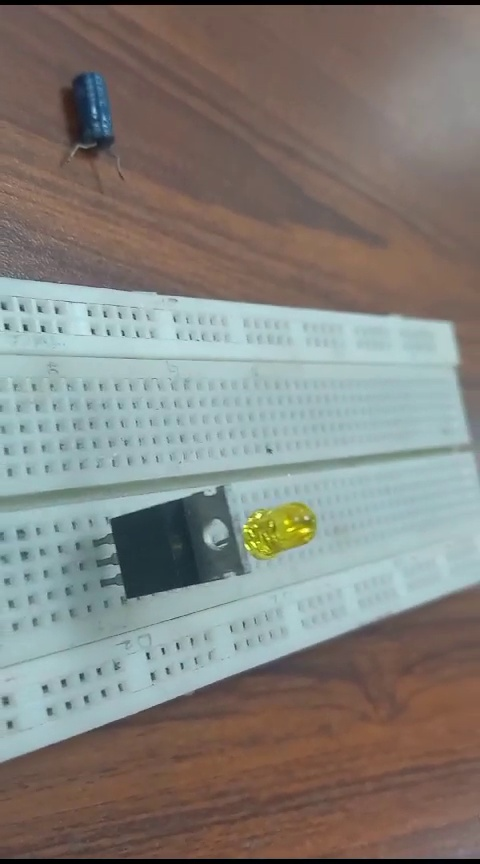LED: (242, 503, 320, 560)
voltage regulator: (92, 483, 250, 605)
